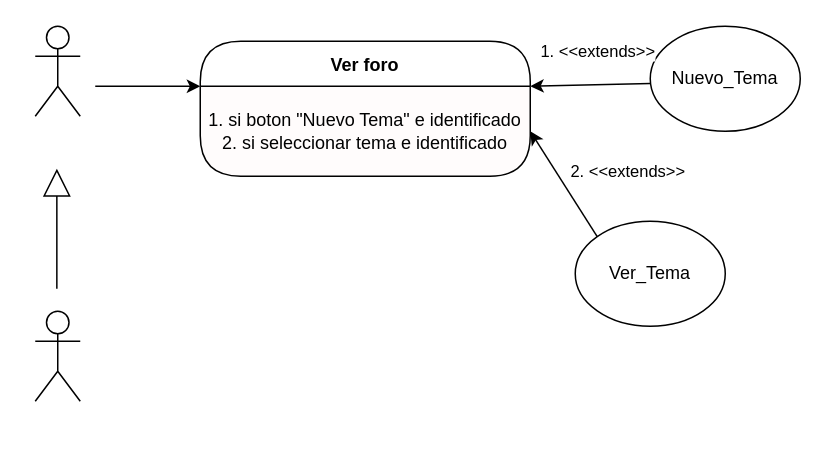
The diagram is 827 pixels wide and 459 high, and some of its shapes have lost their labels. Each missing label, with the centre of its shape:
"General" belongs at point 57,70.
"Usuario" belongs at point 57,355.
